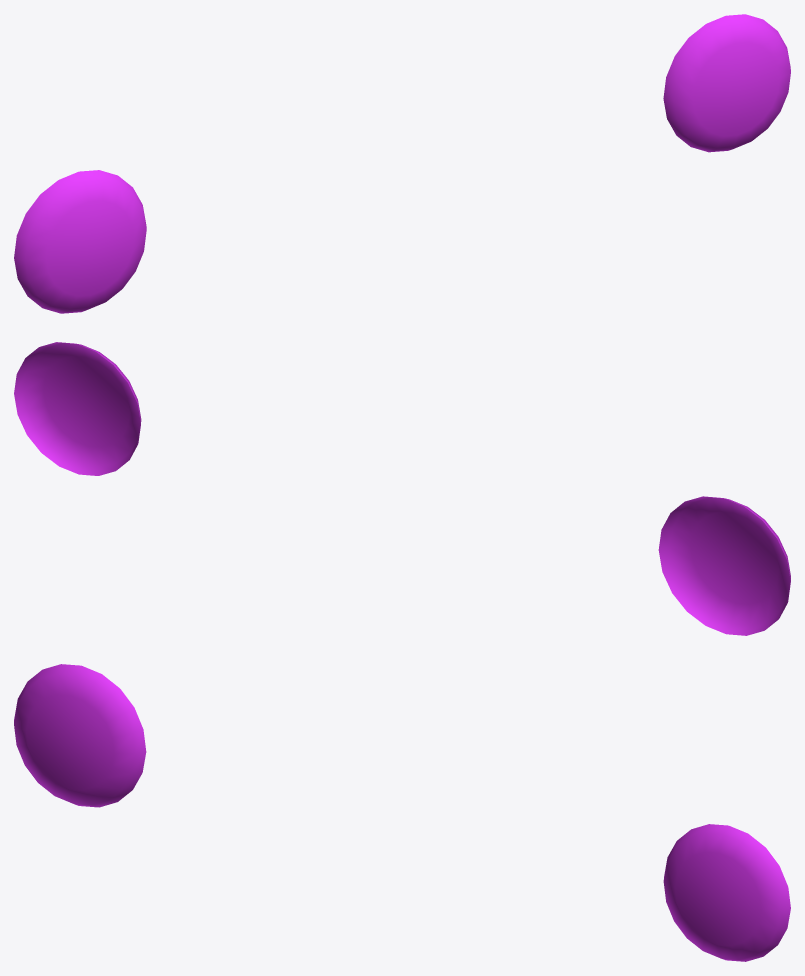
Rendered from Mini_Fenders01_Detail.fbx.
3 views of the same model, one above another, from view 1: azimuth 30°, elevation 25°; view 2: azimuth 150°, elevation 25°; view 3: azimuth 330°, elevation 25° (orthographic).
Visible parts, largest first — view 1: Mini_Fenders01_Detail; view 2: Mini_Fenders01_Detail; view 3: Mini_Fenders01_Detail.
Part boxes in pixels (<box>): Mini_Fenders01_Detail: <box>14,14,790,313</box>; Mini_Fenders01_Detail: <box>14,342,790,635</box>; Mini_Fenders01_Detail: <box>14,664,790,961</box>.
Size of the model in its own units: 121 by 20.52 by 3.79.
